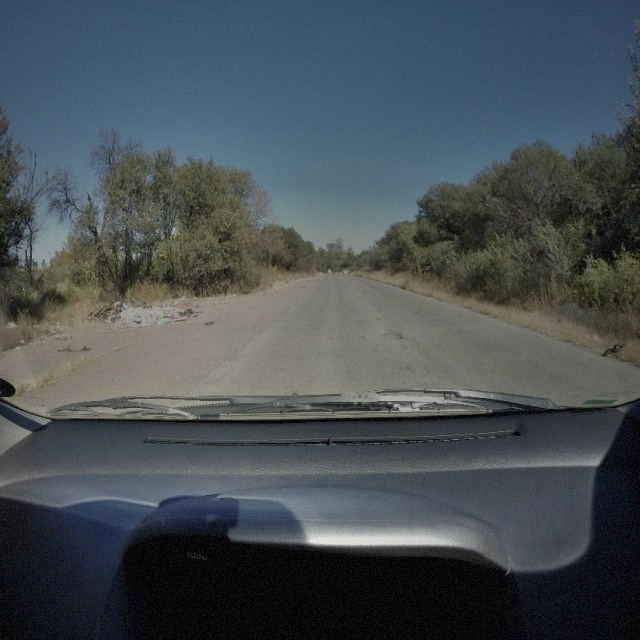pothole: (382, 330, 403, 340)
